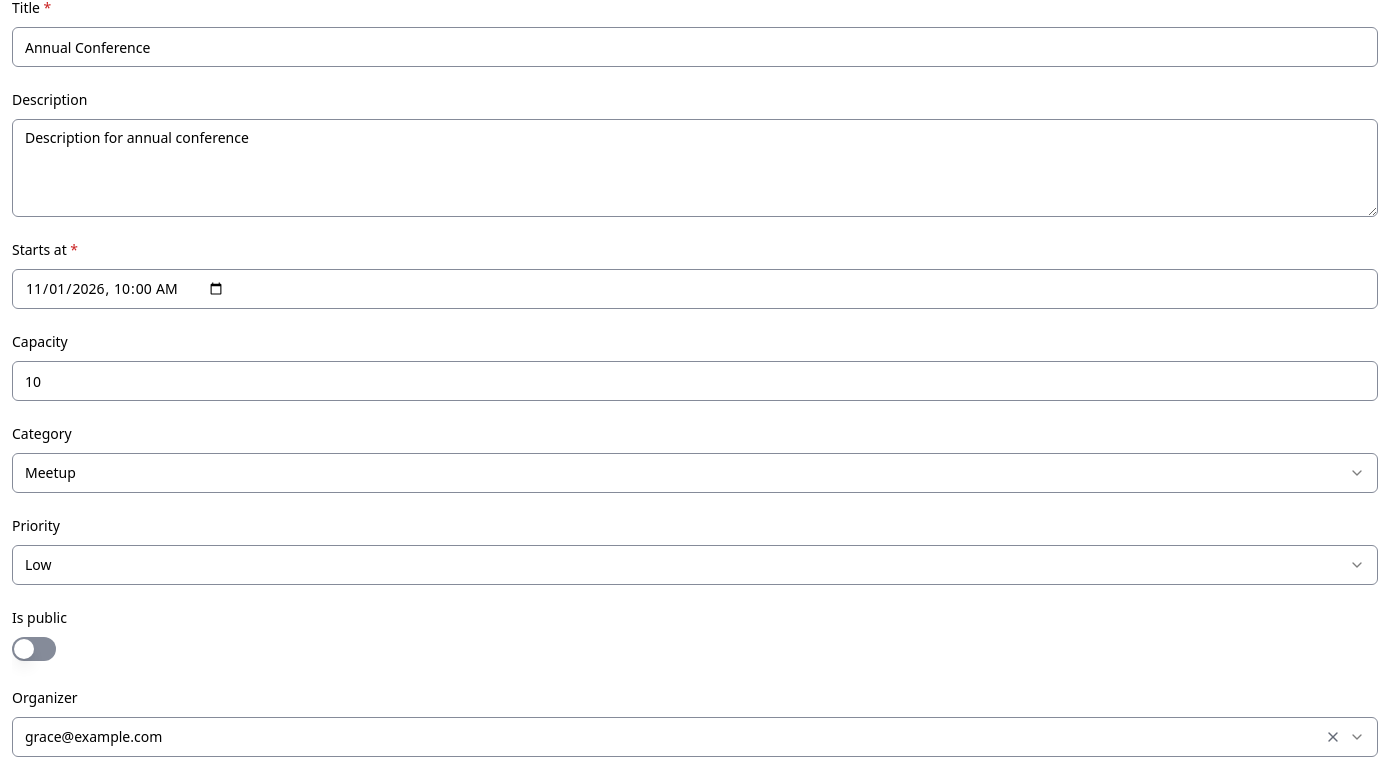
Test: ResourceForm submit: every failure status, and the typed input stays › edit mode 403: "You can't save this event"
In the field labelled "Title": (695, 47) [12,27,1378,67], type "!"
(page scrolled)
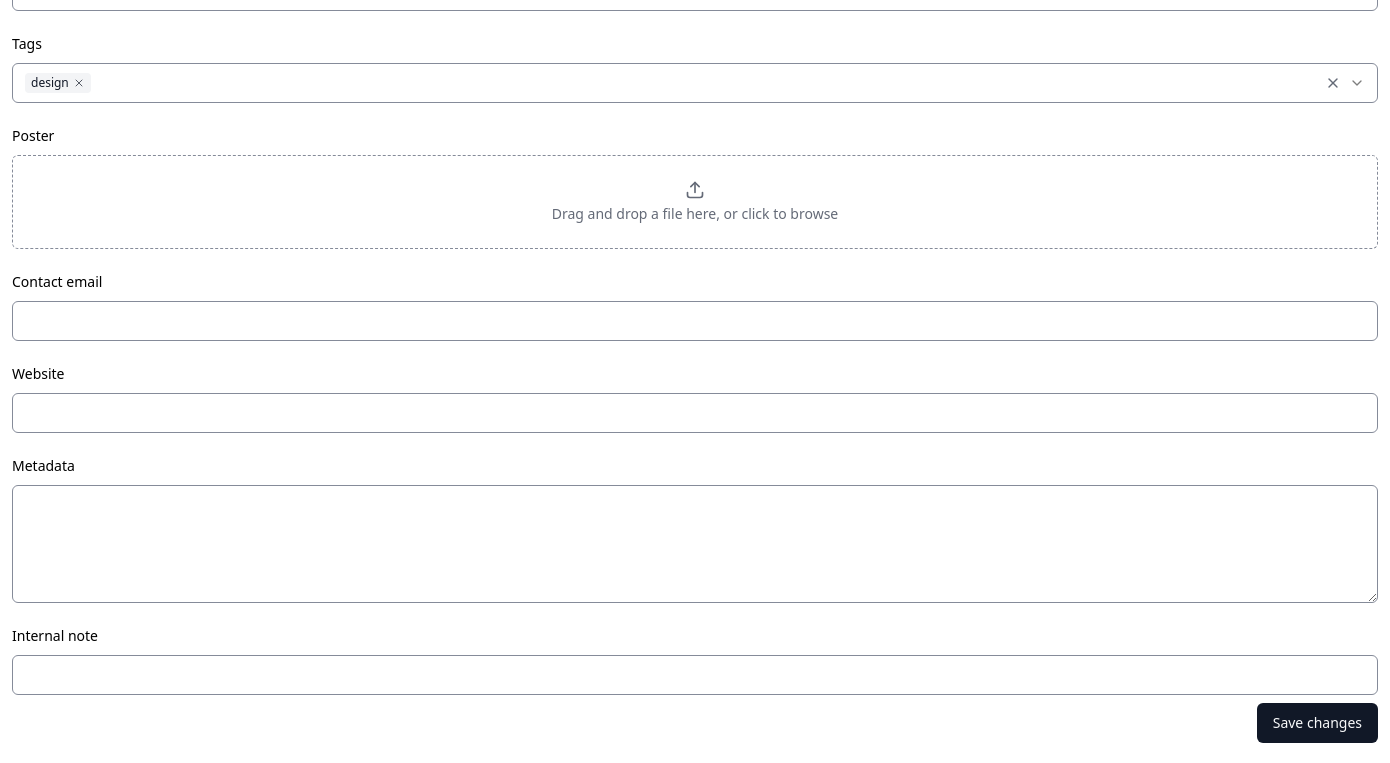
Click the button "Save changes": (1317, 723) [1257,703,1378,743]
(page scrolled)
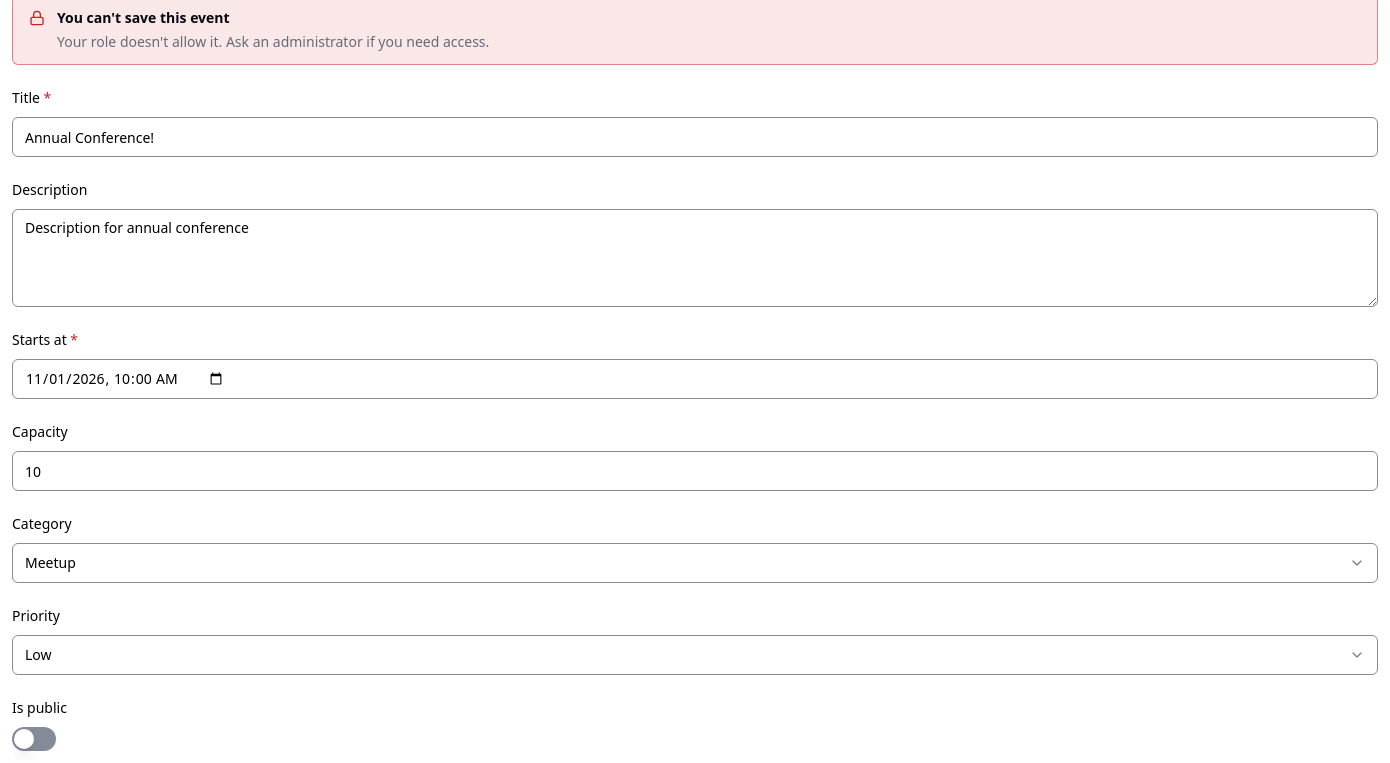
Expected: the field labelled "Title" holds "Annual Conference!", [12,117,1378,157]
Expected: the message shows "You can't save this event", [57,8,230,27]
